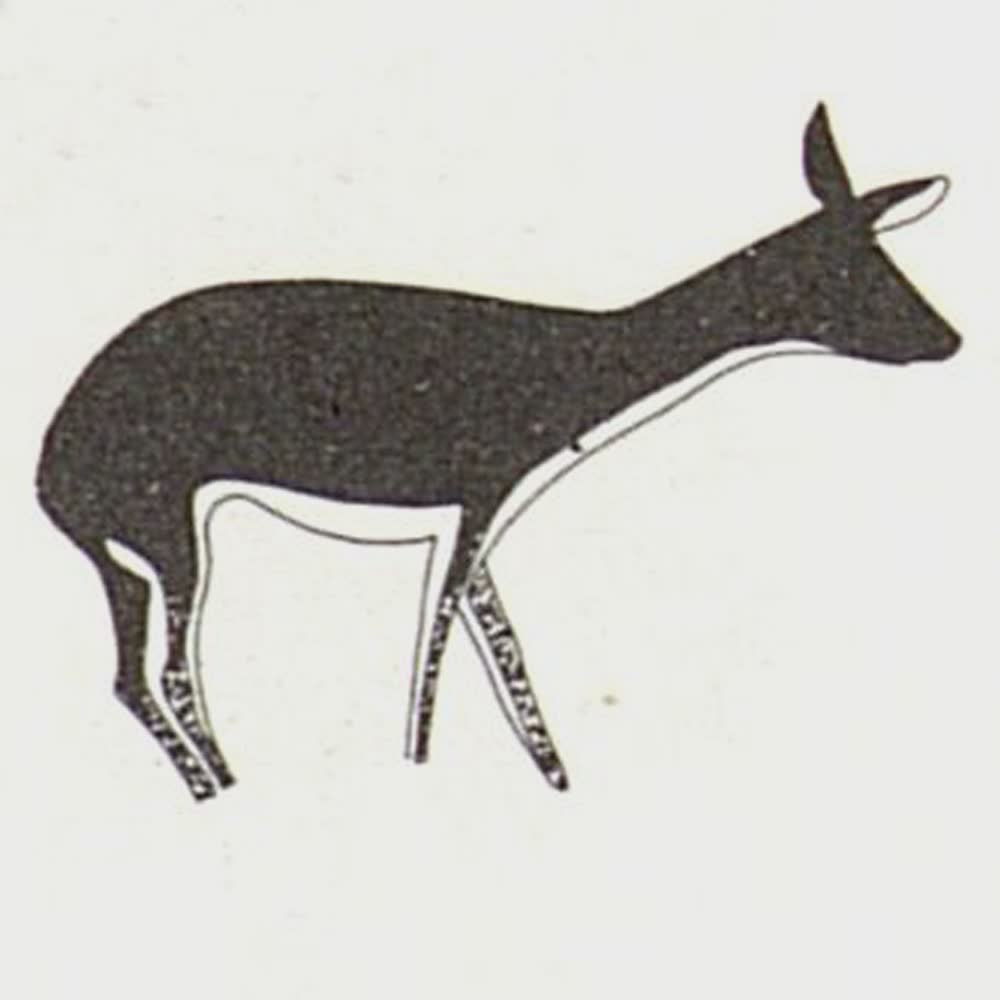animal: (26, 92, 966, 810)
